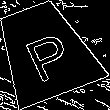P_NW: (15, 21, 75, 81)
